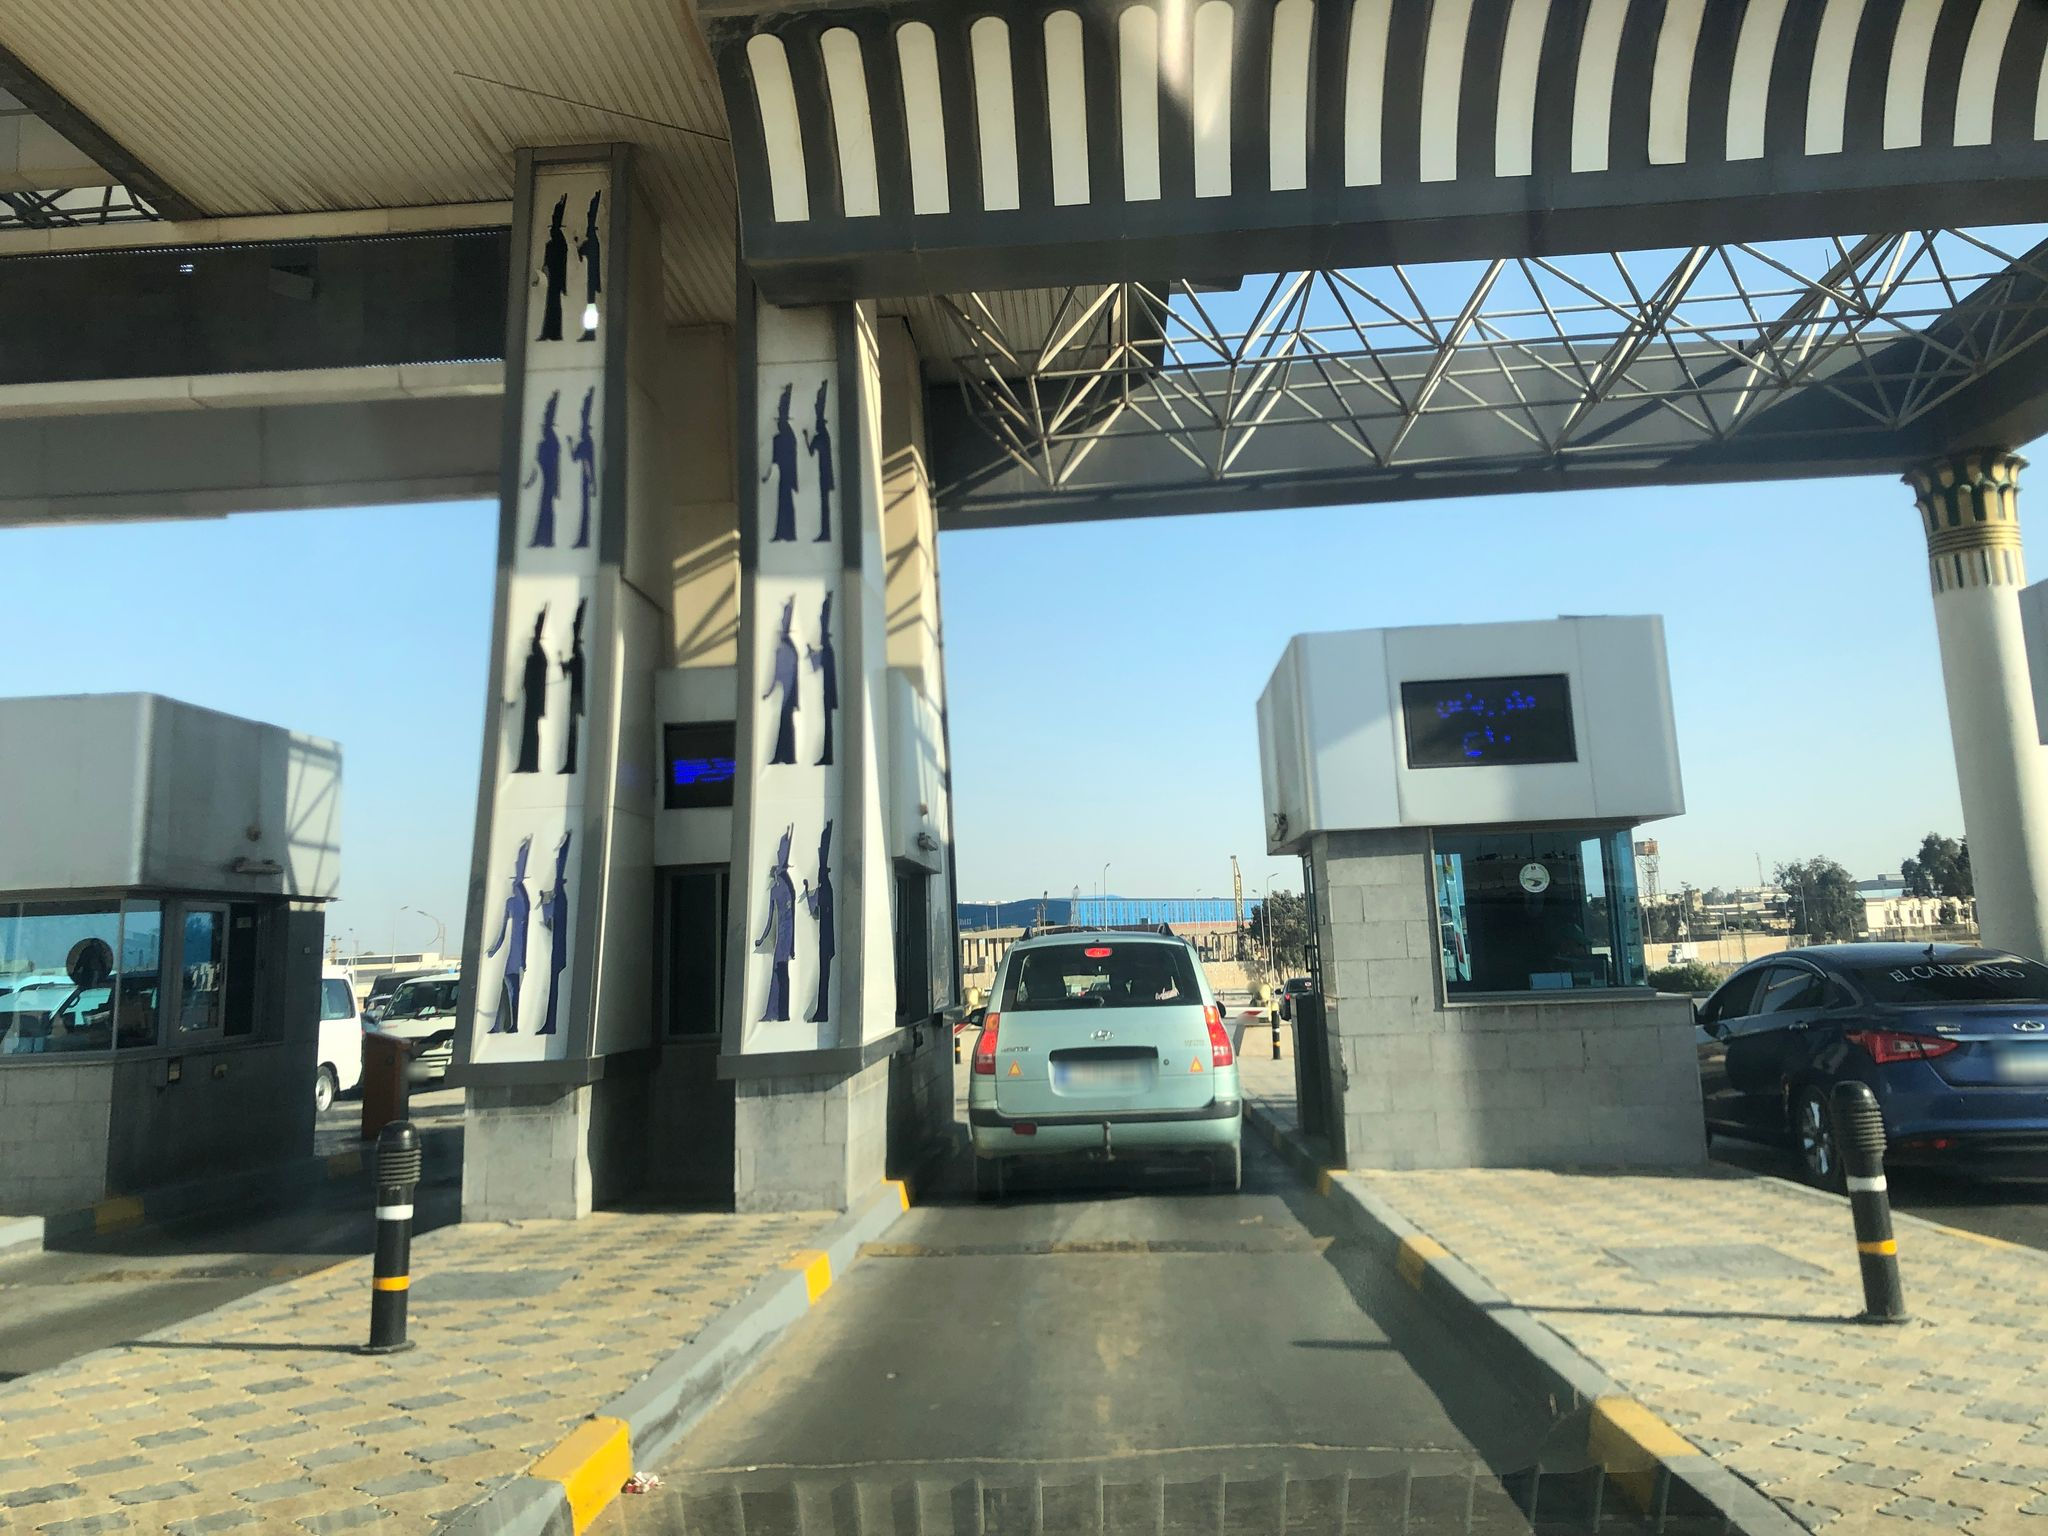car: (1692, 937, 2048, 1192), (963, 920, 1247, 1196), (377, 970, 461, 1083), (314, 962, 366, 1120)
